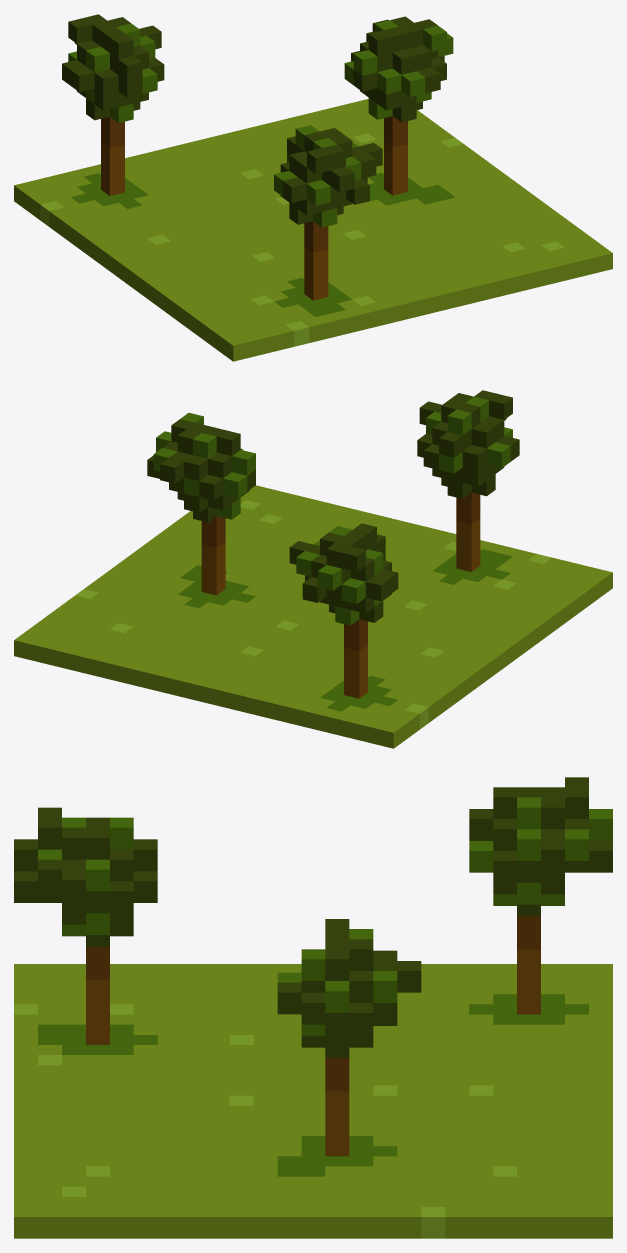
The model's file is build1.obj.
3 views of the same model, one above another, from view 1: azimuth 30°, elevation 25°; view 2: azimuth 150°, elevation 25°; view 3: azimuth 270°, elevation 25° (orthographic). The views are drawn at different scales.
Bounding box in the file's own units: 25 × 11 × 25.
